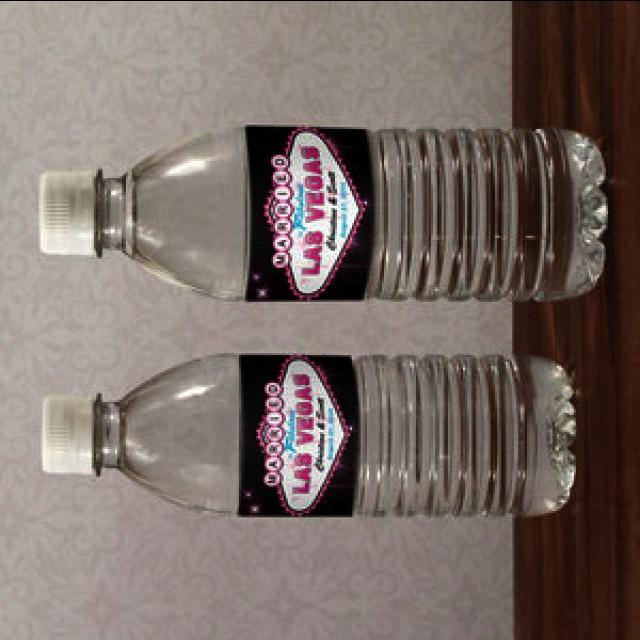cap: (39, 166, 103, 258), (37, 388, 100, 478)
label: (242, 123, 376, 304), (234, 354, 362, 521)
not-crumbled: (27, 110, 615, 311), (32, 342, 584, 524)
